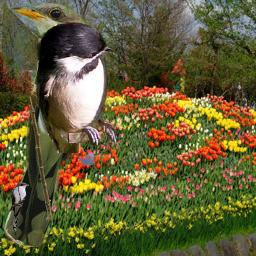Cuckoo: (3, 3, 110, 247), (11, 182, 29, 231)
Swallow: (33, 18, 123, 153)
